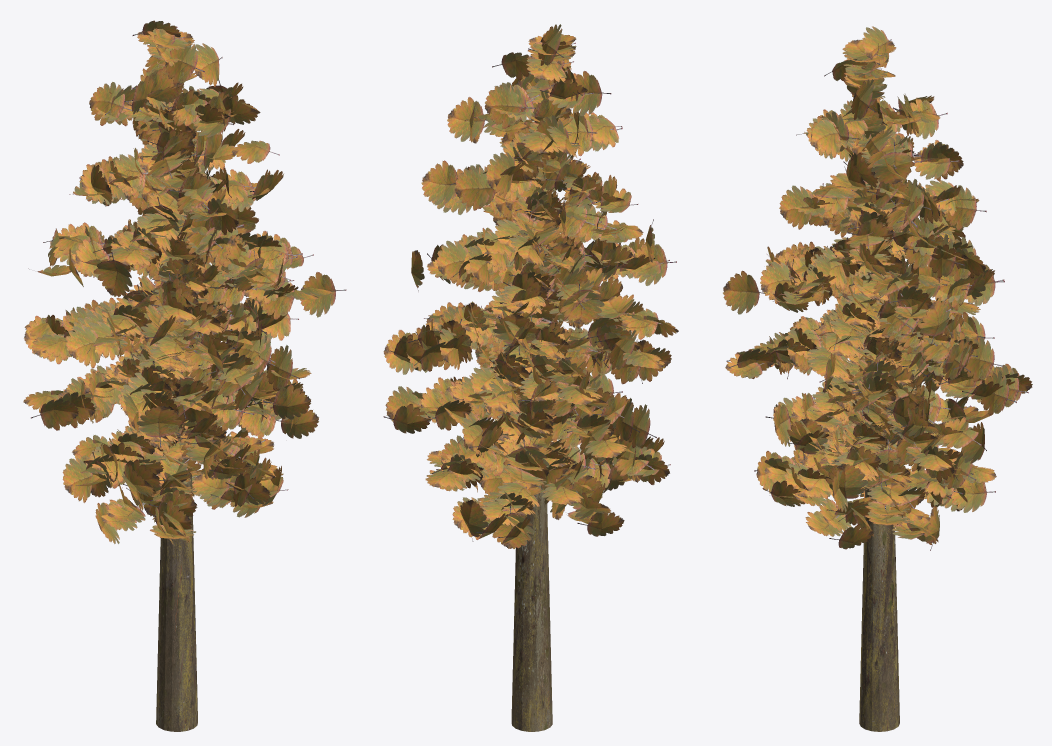
The model's file is IntroTree.fbx.
The picture shows the model from 3 angles, left to right: view 1: azimuth 30°, elevation 25°; view 2: azimuth 150°, elevation 25°; view 3: azimuth 270°, elevation 25°; orthographic projection. The views are drawn at different scales.
Parts seen in each view (by area): view 1: 円柱.001, TreeLeaf.880, TreeLeaf.447, TreeLeaf.782, TreeLeaf.742, TreeLeaf.609, TreeLeaf.244, TreeLeaf.561, TreeLeaf.364, TreeLeaf.607, TreeLeaf.918, TreeLeaf.791 (+17 smaller); view 2: 円柱.001, TreeLeaf.988, TreeLeaf.780, TreeLeaf.322, TreeLeaf.790, TreeLeaf.723, TreeLeaf.978, TreeLeaf.997, TreeLeaf.594, TreeLeaf.801, TreeLeaf.795, TreeLeaf.607 (+33 smaller); view 3: 円柱.001, TreeLeaf.262, TreeLeaf.316, TreeLeaf.776, TreeLeaf.360, TreeLeaf.568, TreeLeaf.682, TreeLeaf.984, TreeLeaf.949, TreeLeaf.501, TreeLeaf.865, TreeLeaf.411 (+16 smaller).
Part boxes in pixels (x1,y1,x2,y2): 円柱.001: [156, 472, 197, 731]; TreeLeaf.880: [137, 405, 182, 447]; TreeLeaf.447: [65, 325, 100, 368]; TreeLeaf.782: [89, 82, 131, 125]; TreeLeaf.742: [93, 252, 132, 296]; TreeLeaf.609: [263, 384, 310, 419]; TreeLeaf.244: [300, 272, 346, 317]; TreeLeaf.561: [62, 458, 92, 502]; TreeLeaf.364: [165, 40, 204, 84]; TreeLeaf.607: [31, 398, 78, 430]; TreeLeaf.918: [266, 345, 299, 389]; TreeLeaf.791: [194, 43, 222, 86]; 円柱.001: [511, 485, 552, 731]; TreeLeaf.988: [421, 160, 457, 205]; TreeLeaf.780: [447, 97, 487, 141]; TreeLeaf.322: [454, 165, 489, 210]; TreeLeaf.790: [484, 82, 531, 128]; TreeLeaf.723: [560, 283, 604, 324]; TreeLeaf.978: [436, 240, 467, 284]; TreeLeaf.997: [565, 71, 611, 116]; TreeLeaf.594: [383, 403, 430, 433]; TreeLeaf.801: [492, 505, 534, 548]; TreeLeaf.795: [460, 499, 488, 541]; TreeLeaf.607: [628, 404, 656, 448]; 円柱.001: [859, 487, 899, 731]; TreeLeaf.262: [723, 270, 765, 314]; TreeLeaf.316: [779, 185, 812, 229]; TreeLeaf.776: [871, 141, 914, 184]; TreeLeaf.360: [806, 118, 840, 157]; TreeLeaf.568: [825, 463, 867, 498]; TreeLeaf.682: [963, 337, 1003, 382]; TreeLeaf.984: [942, 185, 986, 230]; TreeLeaf.949: [918, 301, 949, 344]; TreeLeaf.501: [951, 480, 995, 512]; TreeLeaf.865: [787, 418, 827, 459]; TreeLeaf.411: [980, 371, 1016, 415].
Bounding box in the file's own units: 3.88 × 9.3 × 3.96.
Materials: 2 (2 with a texture image).
